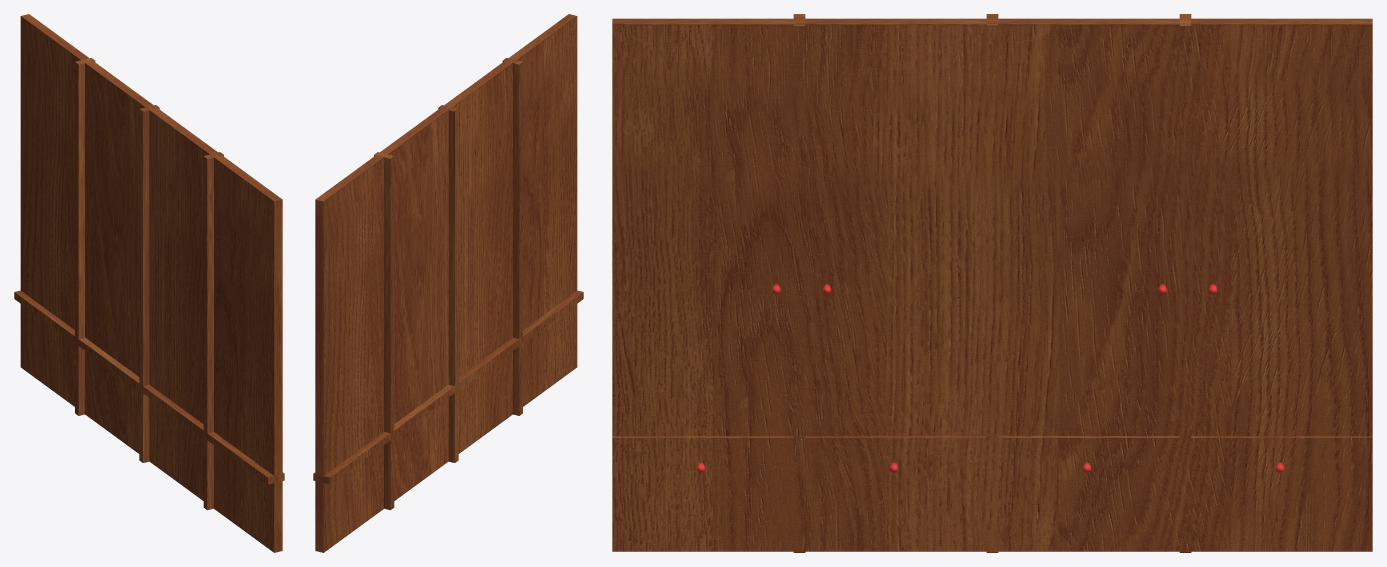
File: cabinet01.FBX
3 renders of one model, left to right at view 1: azimuth 30°, elevation 25°; view 2: azimuth 150°, elevation 25°; view 3: azimuth 270°, elevation 25°, orthographic. The views are drawn at different scales.
Parts seen in each view (by area): view 1: cabinet01; view 2: cabinet01; view 3: cabinet01.
Part boxes in pixels (bbox=[...]): cabinet01: bbox=[14, 14, 284, 552]; cabinet01: bbox=[313, 14, 583, 552]; cabinet01: bbox=[612, 14, 1372, 552].
Size of the model in its own units: 122 by 2010 by 2630.
